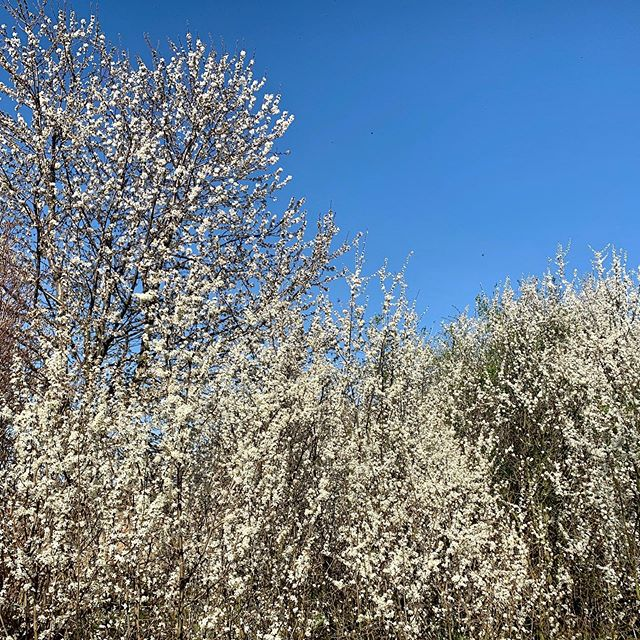sky: (314, 1, 640, 288)
tree: (1, 19, 365, 367)
vegetation: (1, 311, 612, 640)
